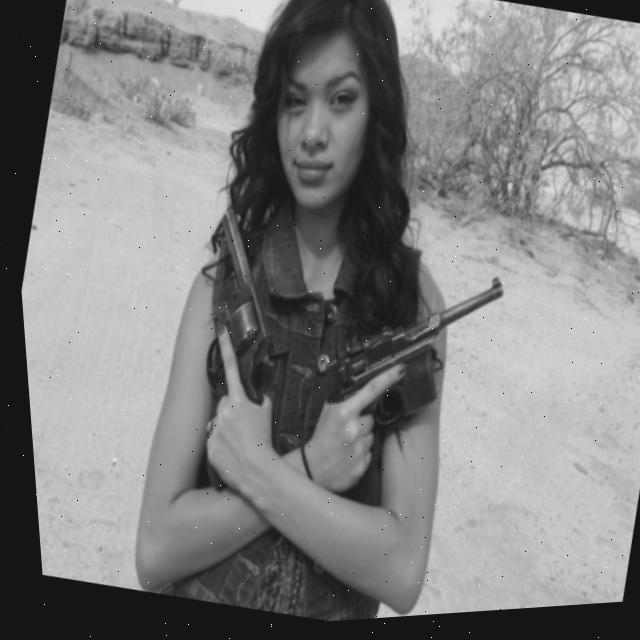pistol: (304, 249, 509, 458), (175, 206, 302, 416)
